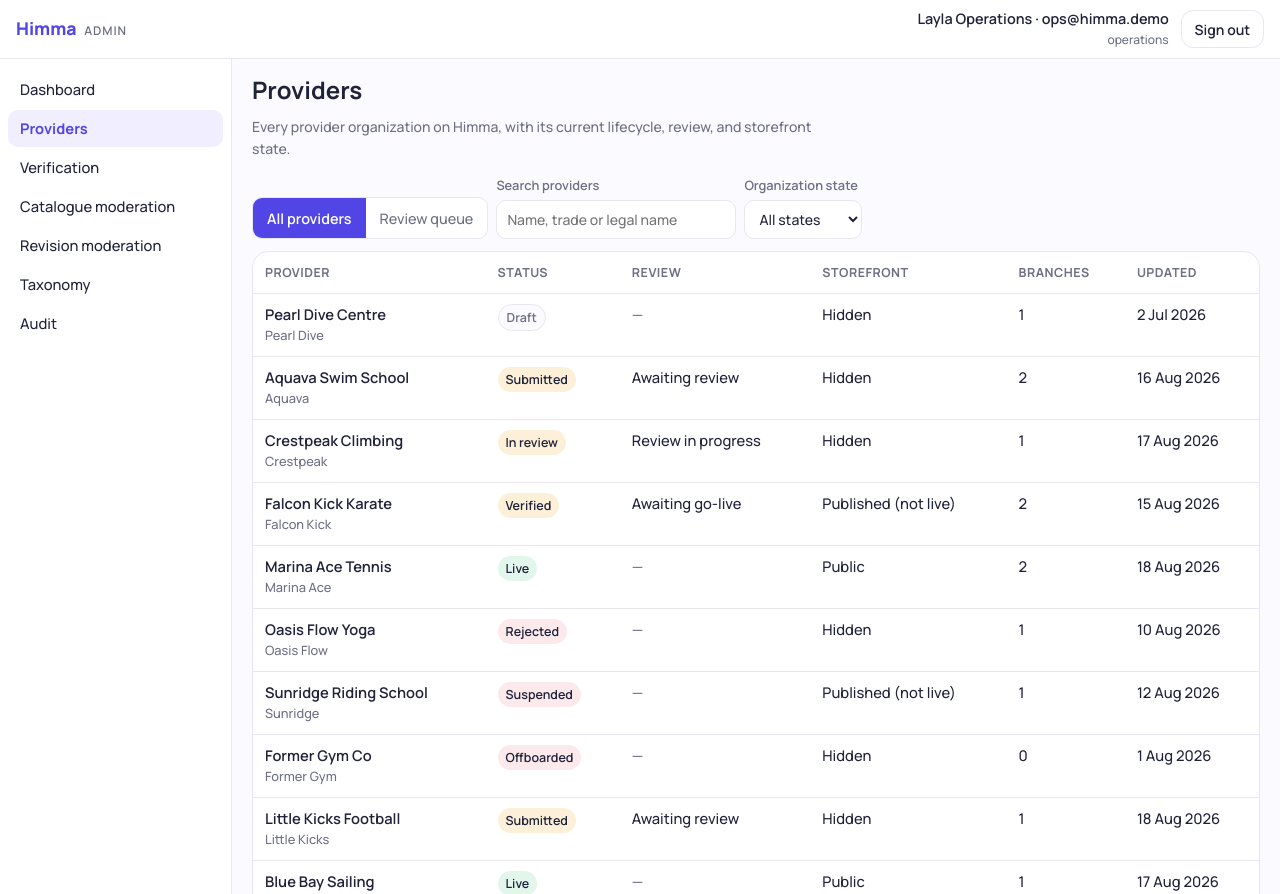
Test: provider directory (task §22) › the state filter drives the SERVER query and composes with the view
Expected: the link "Marina Ace Tennis" is shown, [265,556,392,576]
Select "In review" in the dropdown labelled "Organization state" at (803, 220), box [744,200,862,239]
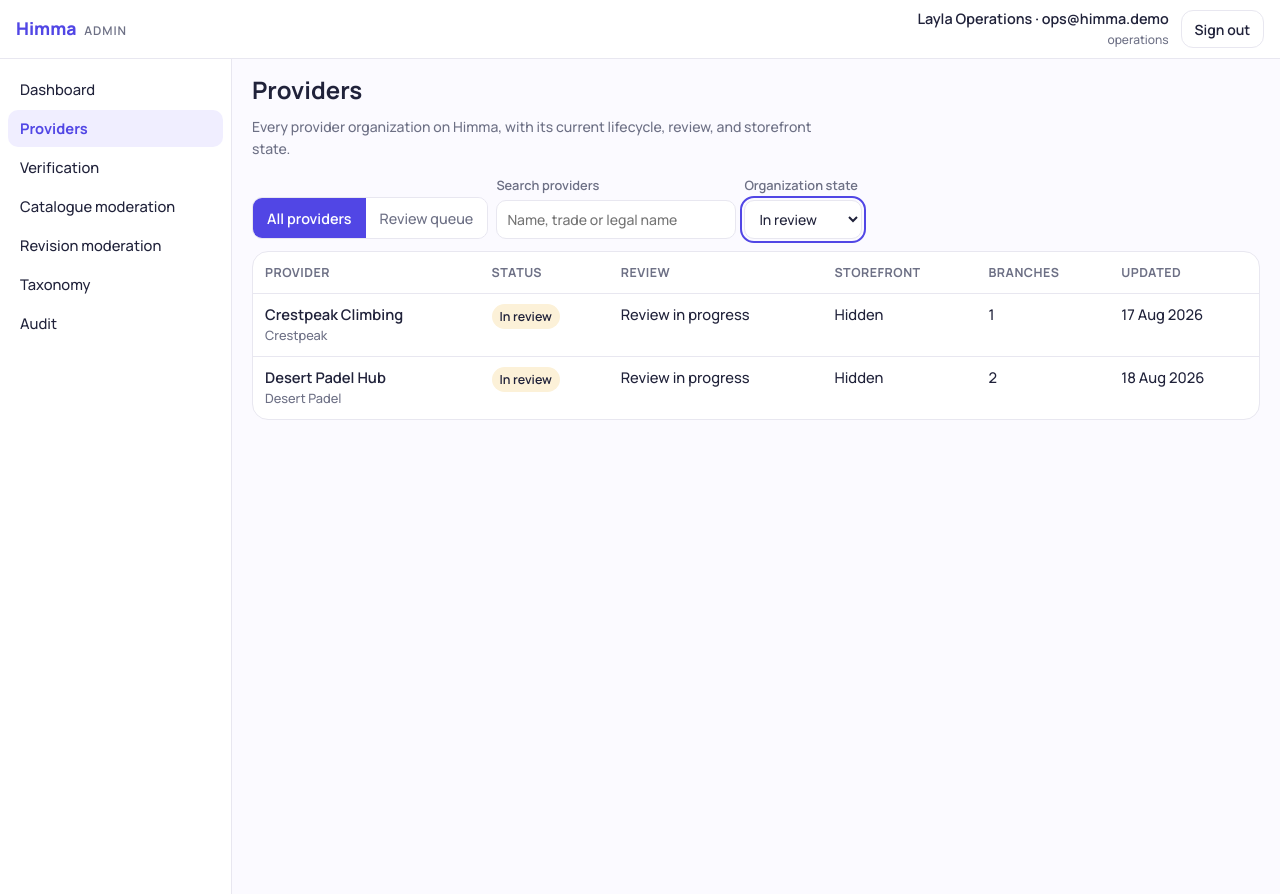
Expected: the link "Crestpeak Climbing" is shown, [265,304,403,324]
Expected: the link "Marina Ace Tennis" is gone
